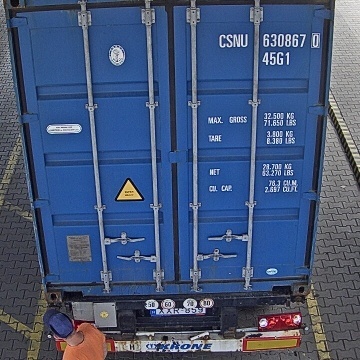serial_id: (219, 33, 320, 47)
